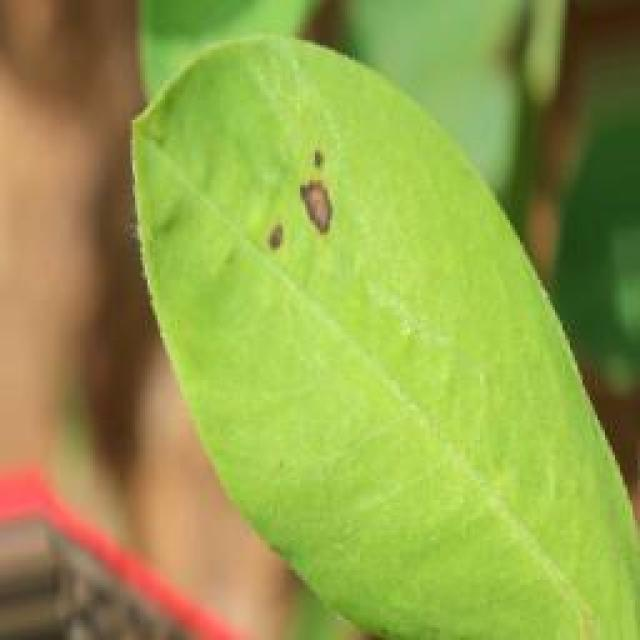Sigatoka: (244, 134, 363, 278)
